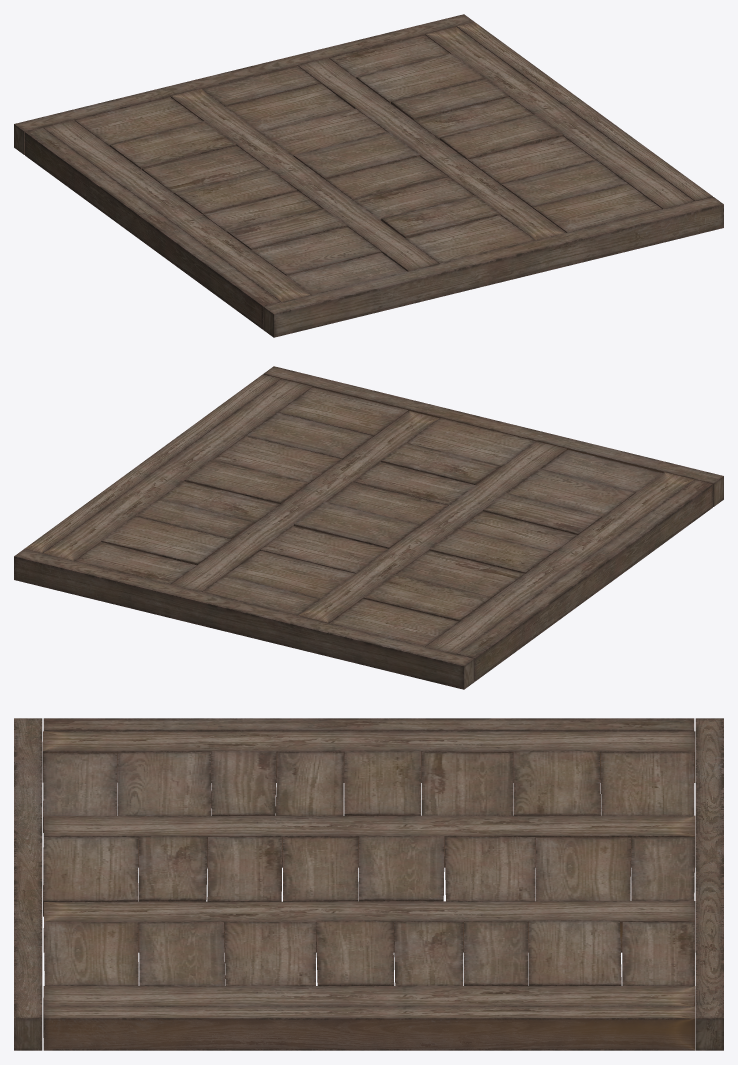
Rendered from SM_Floor01b.fbx.
The picture shows the model from 3 angles, top to bottom: view 1: azimuth 30°, elevation 25°; view 2: azimuth 150°, elevation 25°; view 3: azimuth 270°, elevation 25°; orthographic projection. The views are drawn at different scales.
Visible parts, largest first — view 1: SM_Floor01b; view 2: SM_Floor01b; view 3: SM_Floor01b.
Boxes of the visible parts, x1=… form: SM_Floor01b: x1=14, y1=14, x2=723, y2=337; SM_Floor01b: x1=14, y1=366, x2=723, y2=689; SM_Floor01b: x1=14, y1=718, x2=723, y2=1050.
Size of the model in its own units: 300 by 300 by 15.26.
Materials: 1 (1 with a texture image).
